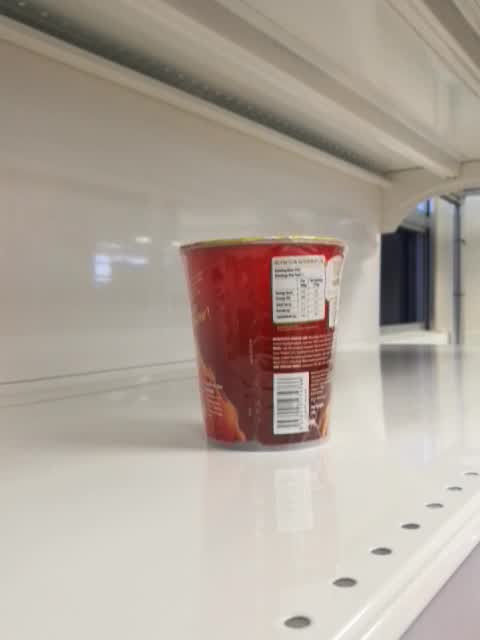maggi: (179, 235, 350, 452)
